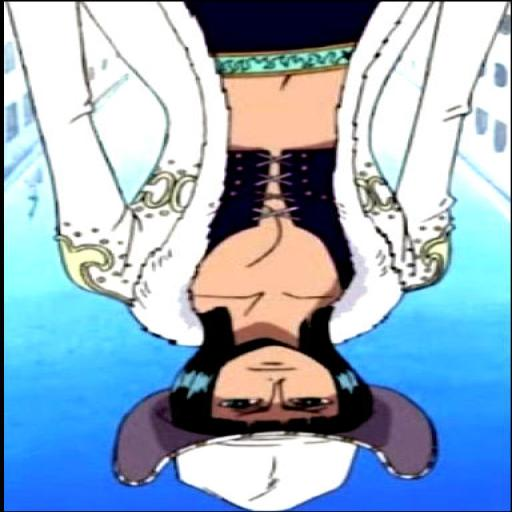NicoRobin: (21, 2, 503, 506)
